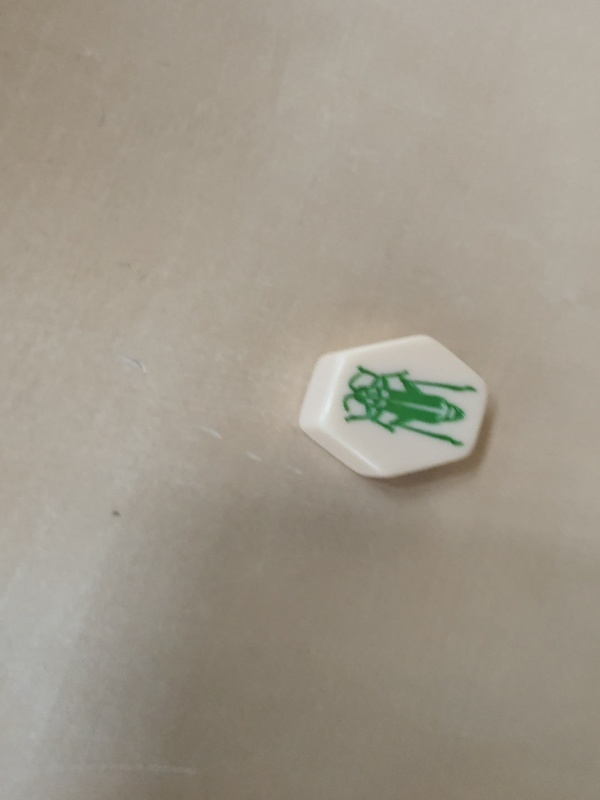white_grasshopper: (296, 329, 498, 490)
